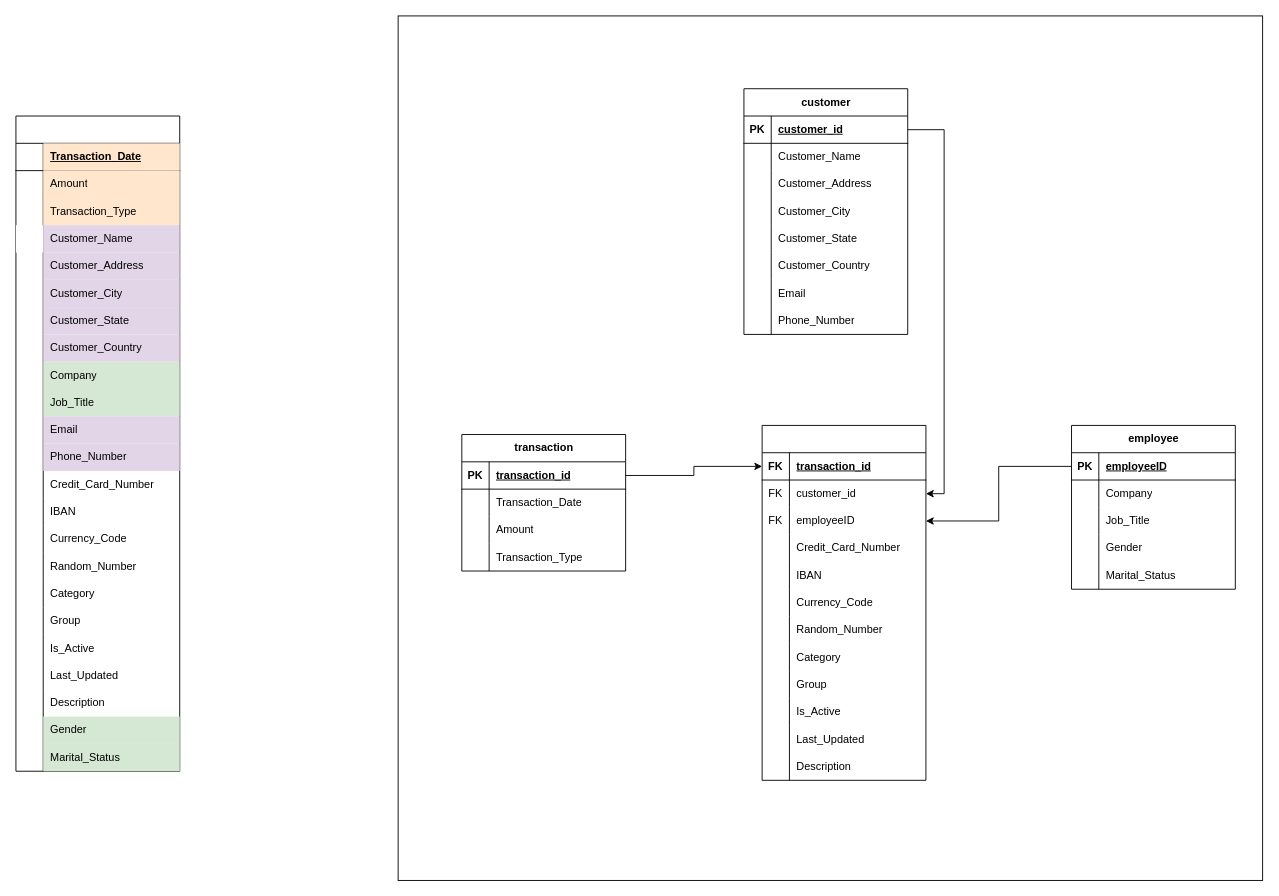
This 1279x896 diagram has some shape labels left out. Each missing label, with the box of its shape:
fact_table: (761, 425, 926, 780)
nuga_bank_df: (15, 115, 180, 771)
